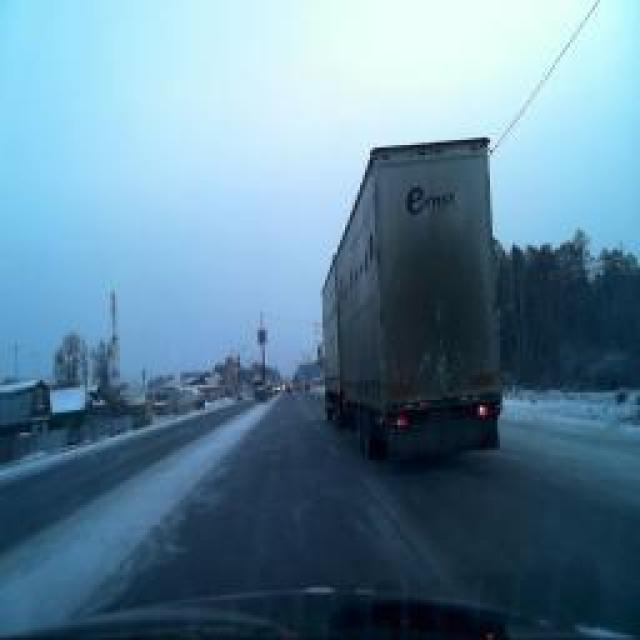sign: (258, 327, 268, 345)
